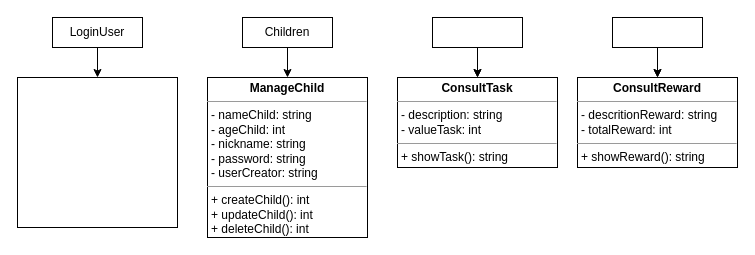
Image size: 755x255. Some labels were removed from this diagram. The shapes that lost their labels are listed below. From the top down, each one's box as (x1, y1, x2, y2) in pixels, then its label:
(432, 16, 522, 48): ConsultTask
(612, 16, 702, 48): ConsultReward
(16, 76, 178, 228): User - name: string - email: string - password: string + loginApp(): int
